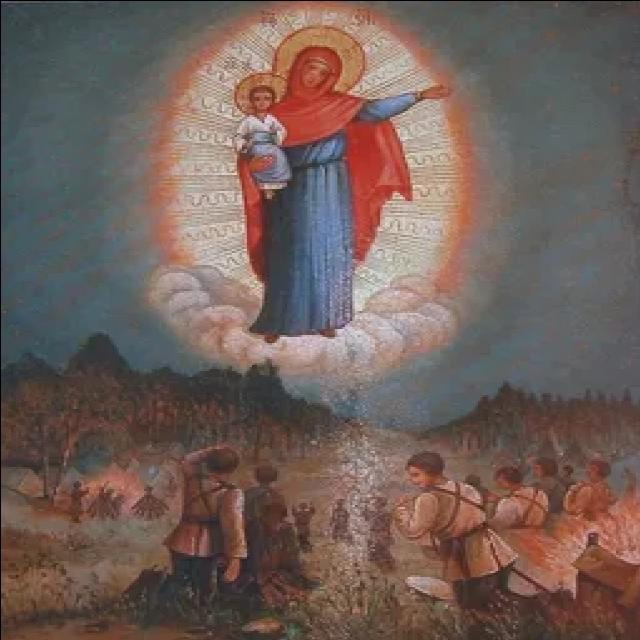mother of god: (206, 29, 471, 356)
